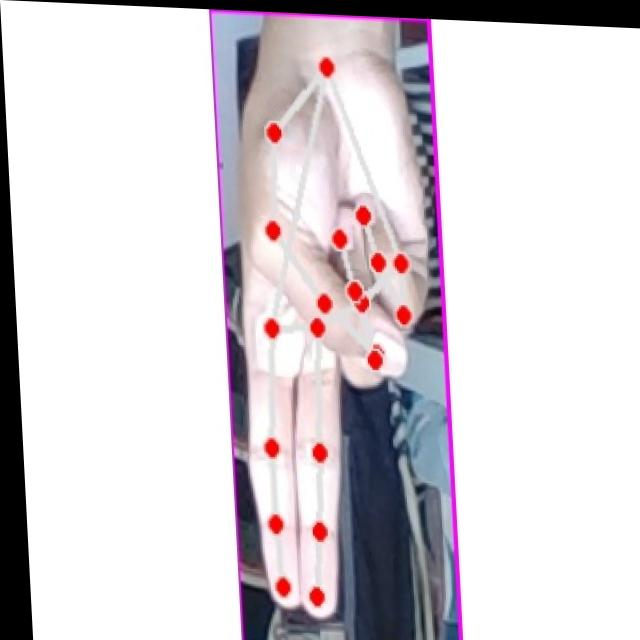U: (223, 42, 445, 621)
